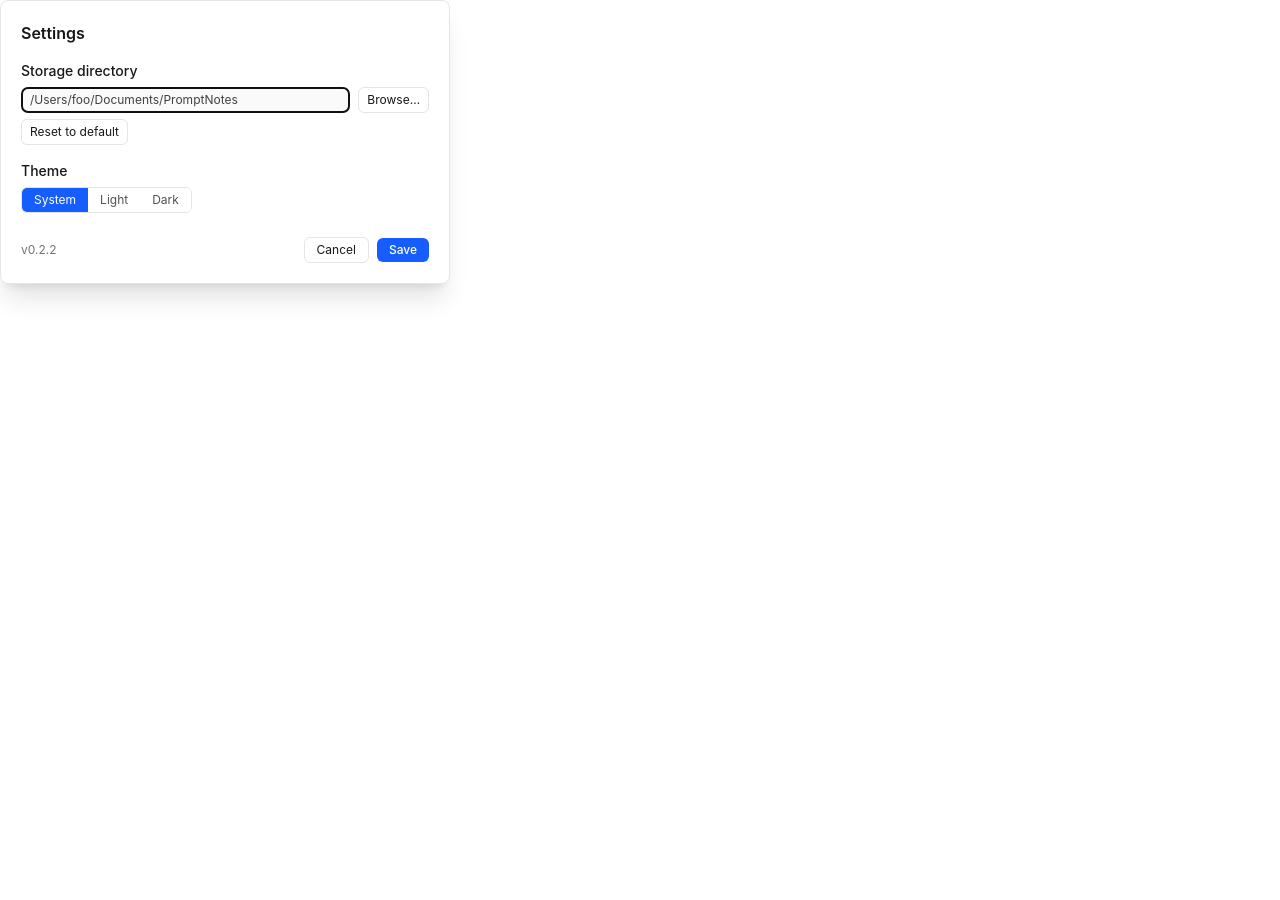
Scenario: widget:widget-settings-modal spec#tp-sm-storage-dir-validation › invalid_path / contains_config_path — 設定ファイルを含むフォルダのエラーを表示する
Click the button "Reset to default" at [74, 132], box [21,119,128,145]
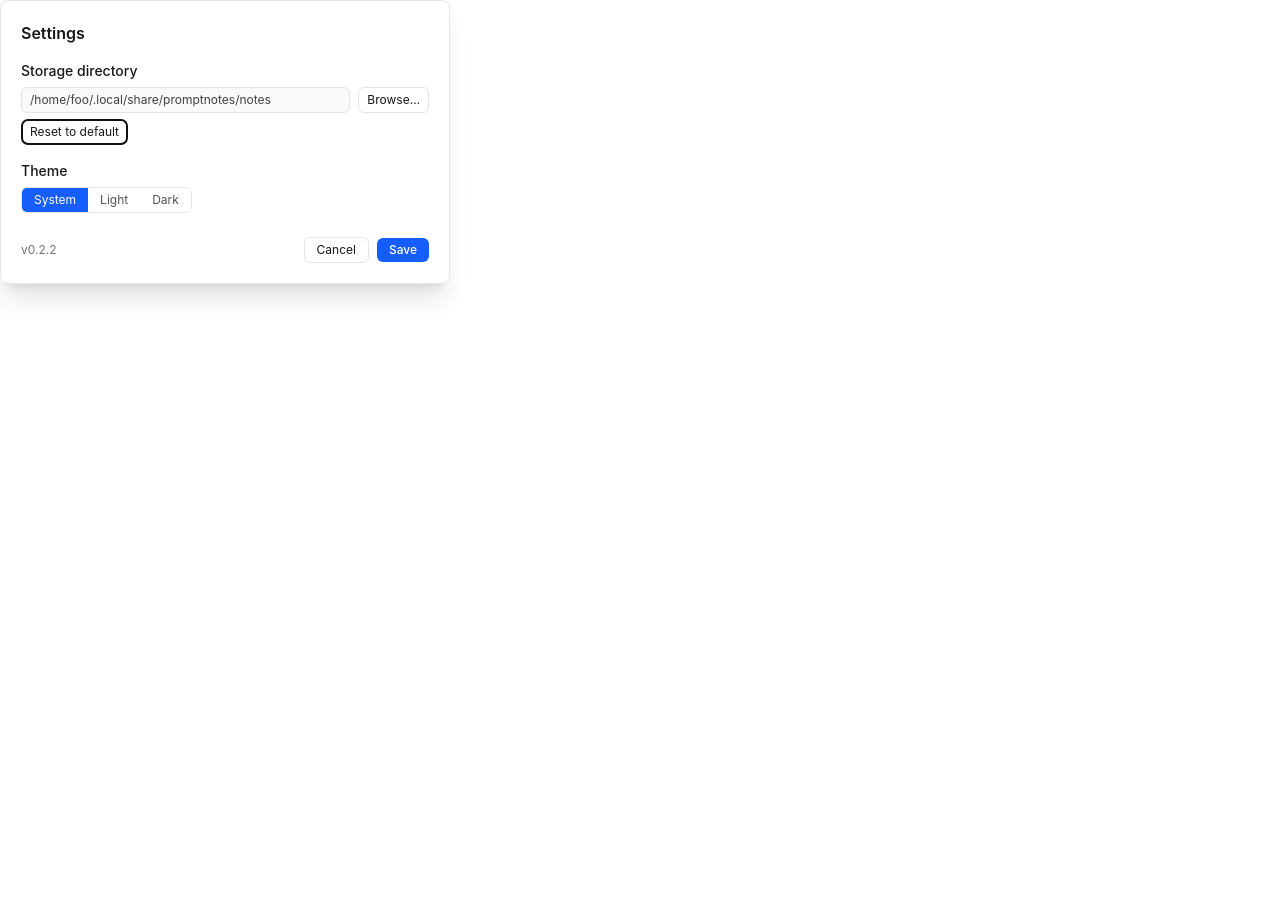
Click the button "Save" at [403, 250], box [377,238,429,262]
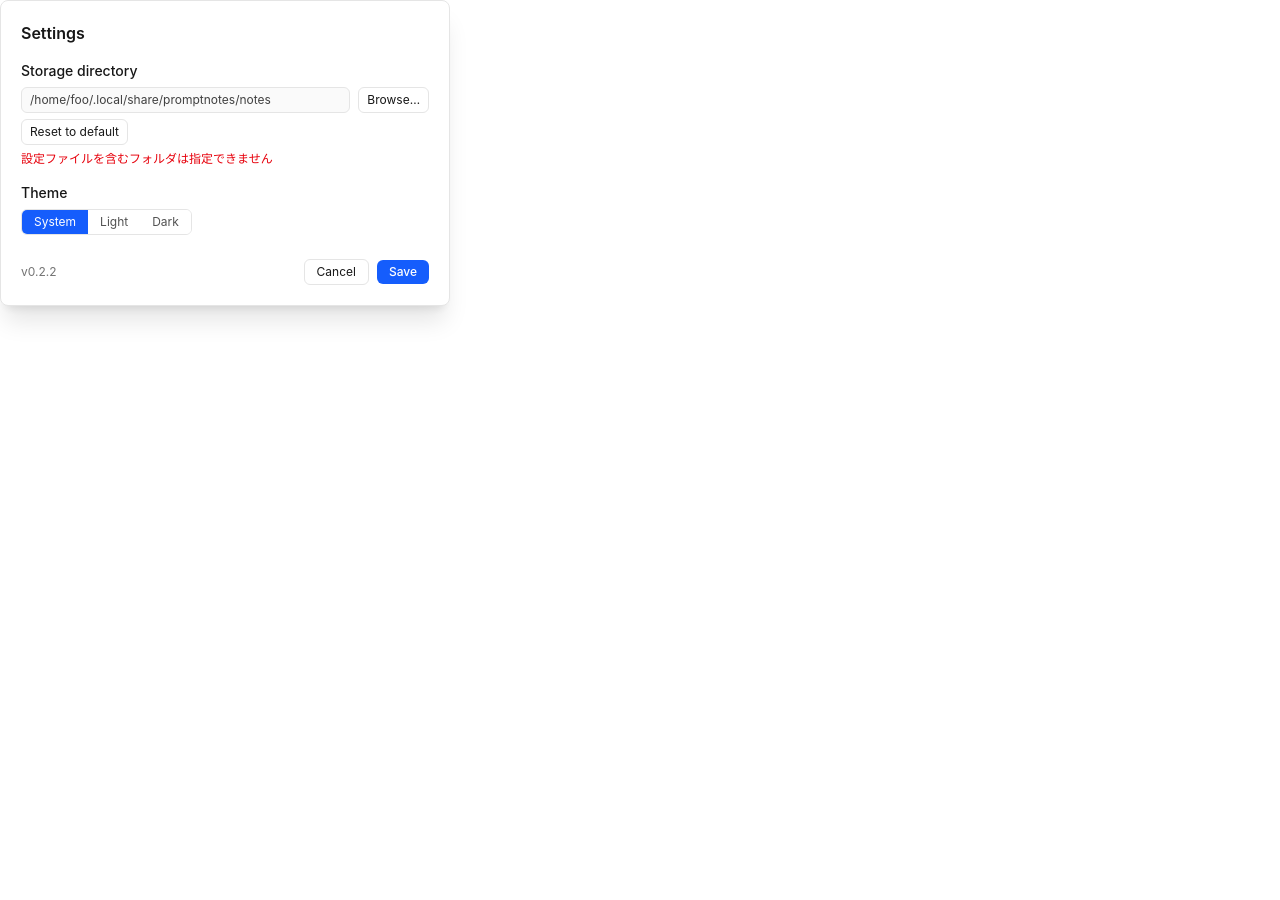
Check: the text "設定ファイルを含むフォルダは指定できません" is shown, box [21,151,273,166]
